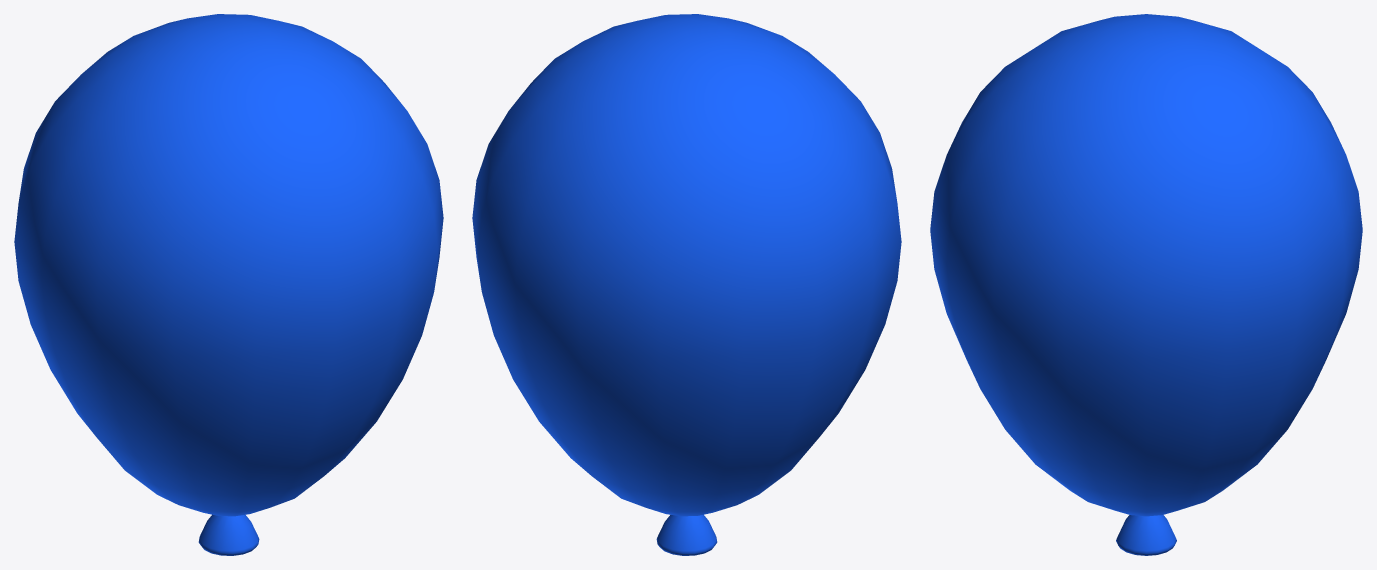
The model's file is Globo.obj.
3 renders of one model, left to right at view 1: azimuth 30°, elevation 25°; view 2: azimuth 150°, elevation 25°; view 3: azimuth 270°, elevation 25°, orthographic.
Visible parts, largest first — view 1: Globo; view 2: Globo; view 3: Globo.
Boxes of the visible parts, box(x1,y1,x2,y2) form: Globo: box(14, 14, 443, 555); Globo: box(472, 14, 901, 555); Globo: box(930, 14, 1362, 555).
Bounding box in the file's own units: 0.1997 × 0.2607 × 0.1997.
1 material, 1 textured.
